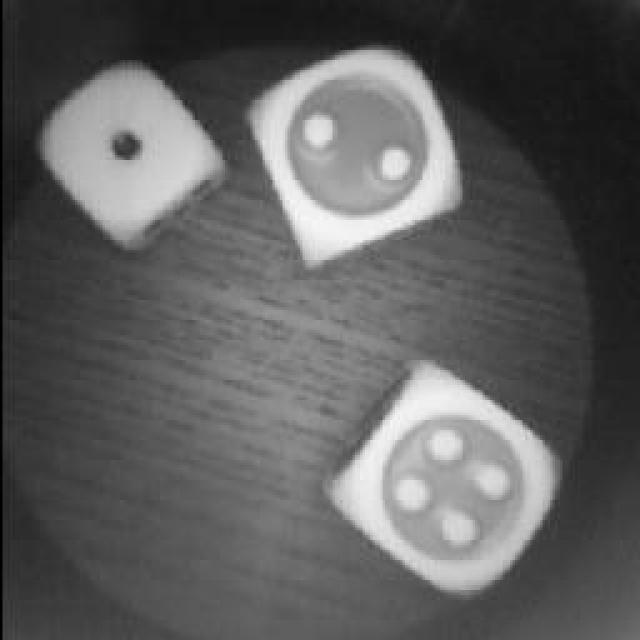dice_1: (42, 78, 210, 230)
dice_2: (253, 57, 455, 255)
dice_4: (340, 385, 558, 585)
